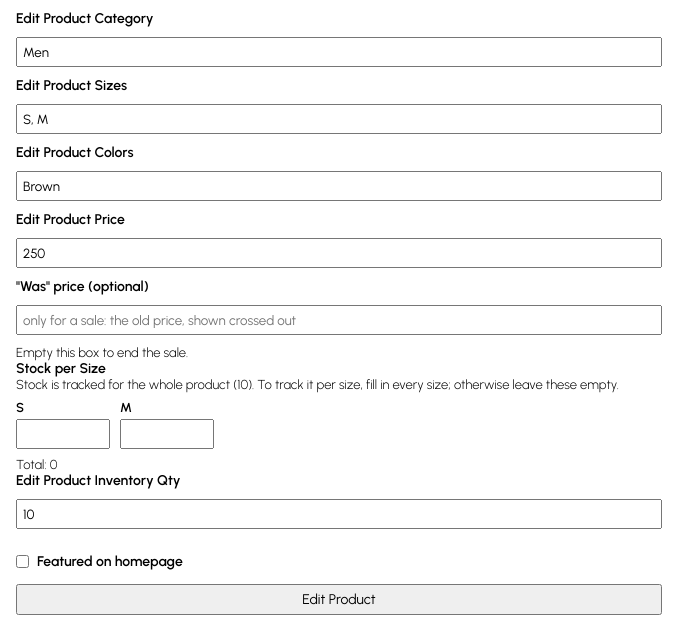
Test: AdminEditProduct › switches a product to stock per size once a size's box is filled
(page scrolled)
Check: the text "Stock is tracked for the whole product (10)" is shown, box [16,377,662,392]
Check: the field with id "inStock" is shown, box [16,499,662,529]
Type "4" into the number field named "Stock for size S" at (63, 434), box [16,419,110,449]
(page scrolled)
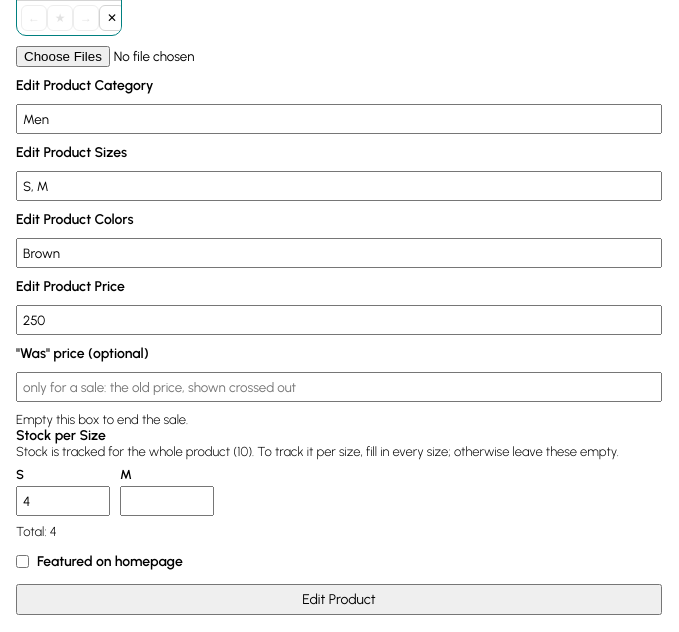
Check: the field with id "inStock" is gone
